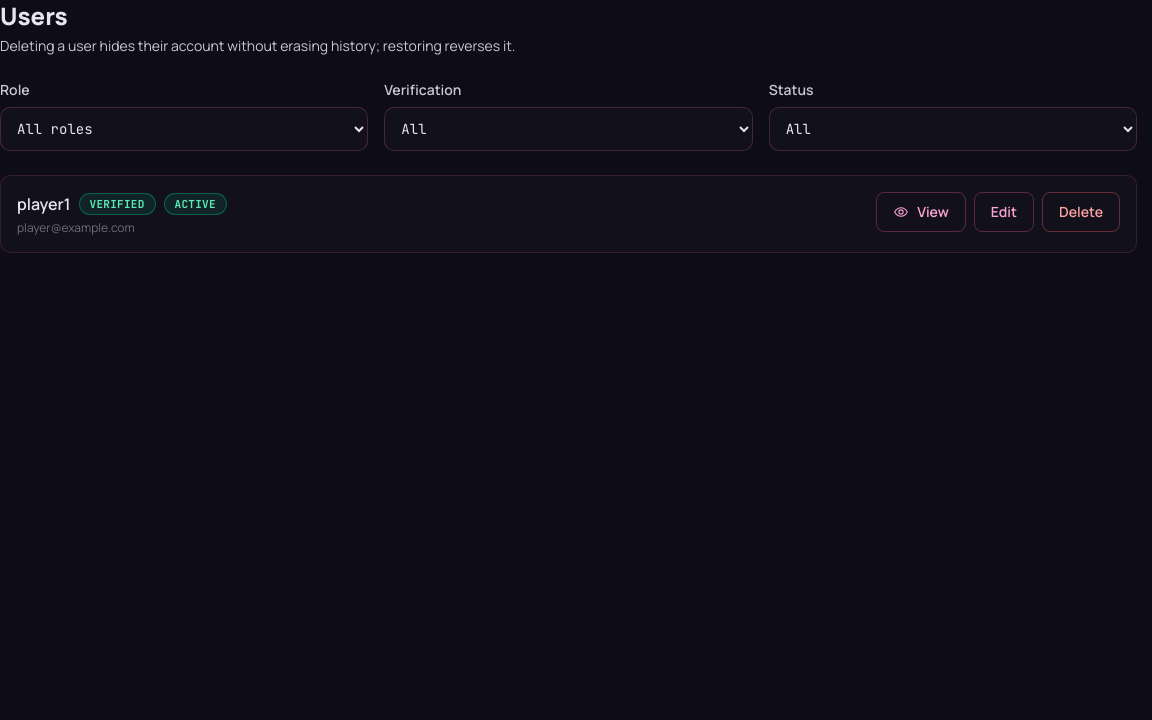
it: UsersPage › deletes a user after confirming
Click the button "Delete".
click(1081, 212)  # box [1042, 192, 1120, 232]
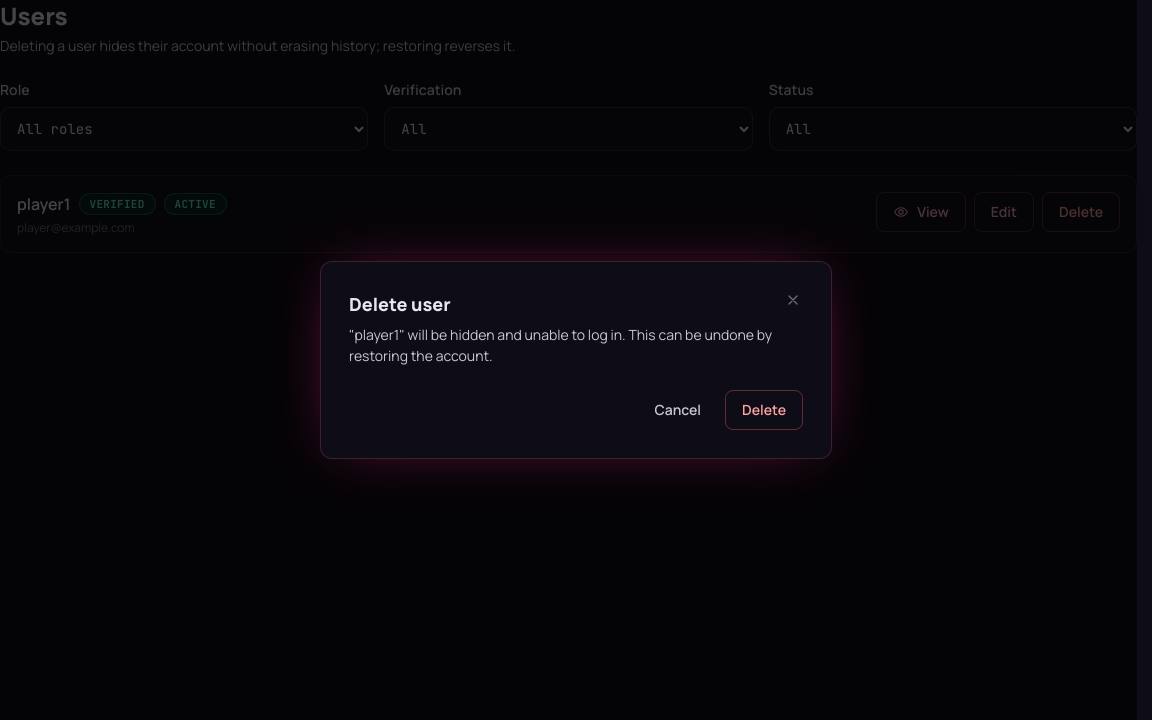
Expected: the dialog "Delete user" is shown, [320, 261, 832, 459]
Click the button "Delete".
click(764, 410)  # box [725, 390, 803, 430]
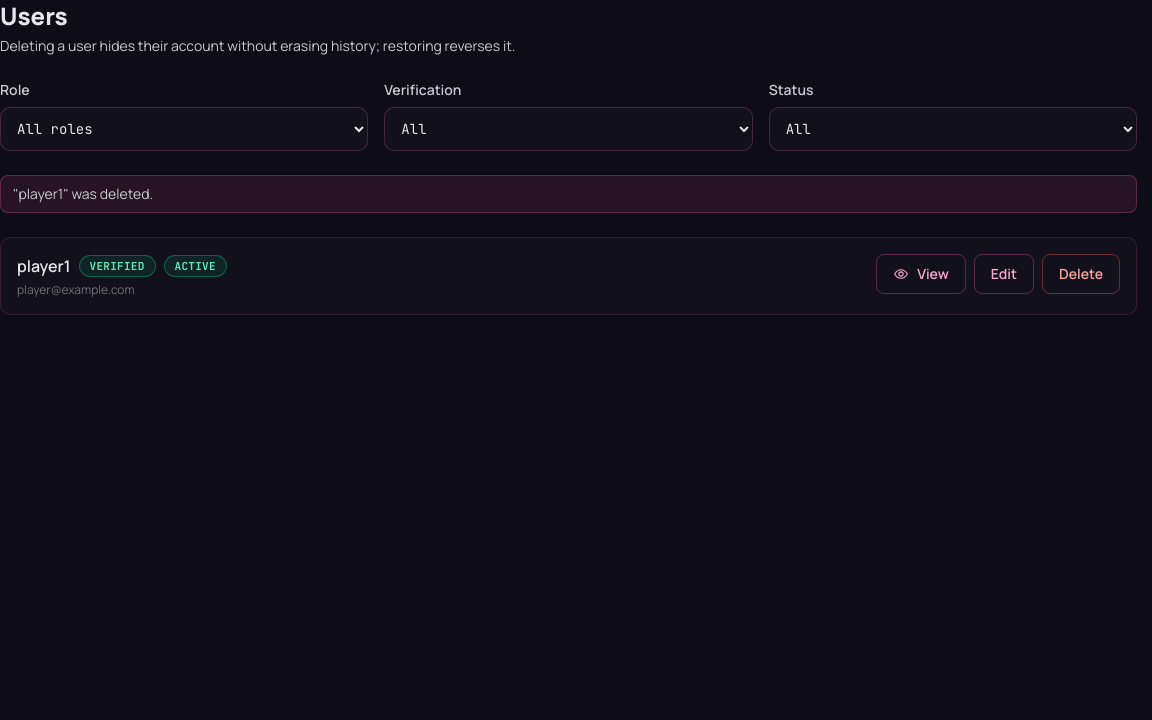
Expected: the text "\"player1\" was deleted." is shown, [0, 175, 1137, 213]
